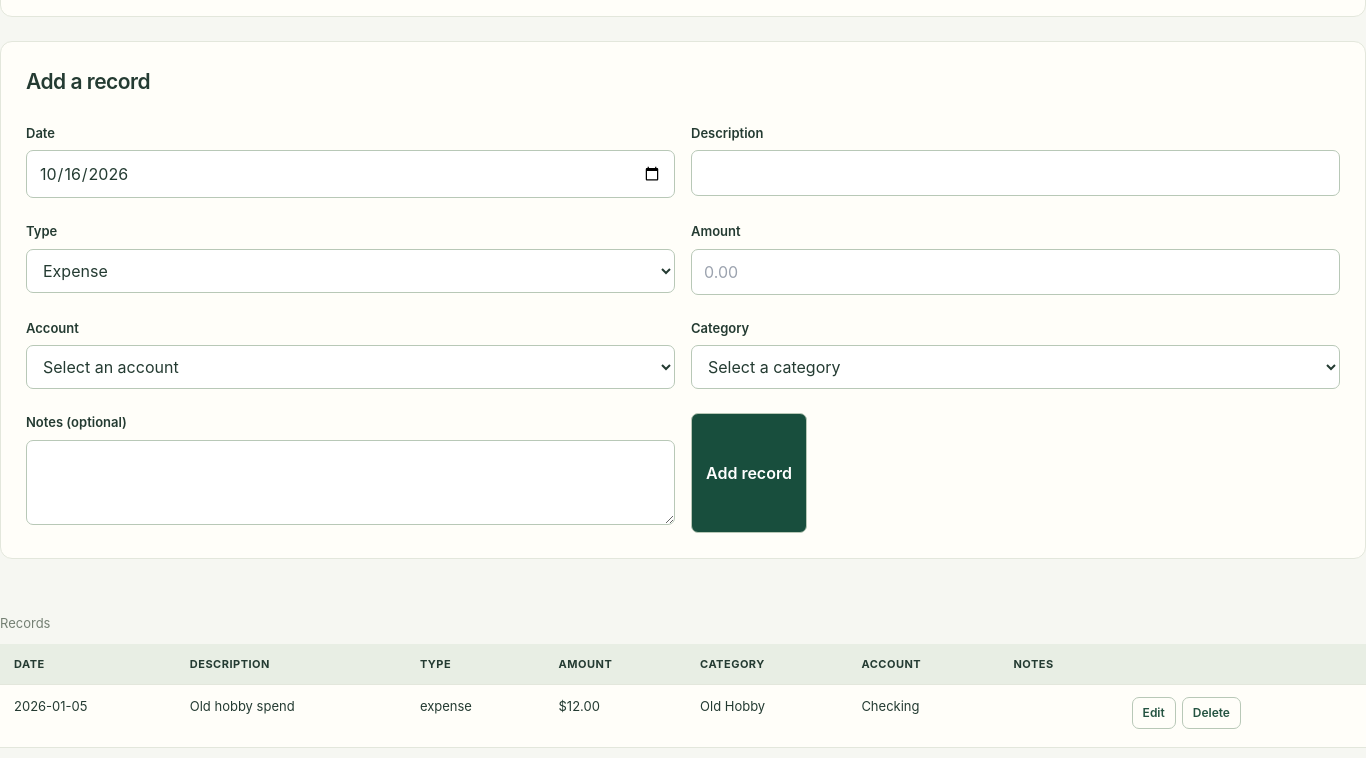
Test: RecordsPage: entry form, filters, edit, and delete › editing an existing record that references an archived category still shows it selected
(page scrolled)
Click the button "Edit" at (1154, 713), box [1132,697,1176,729]
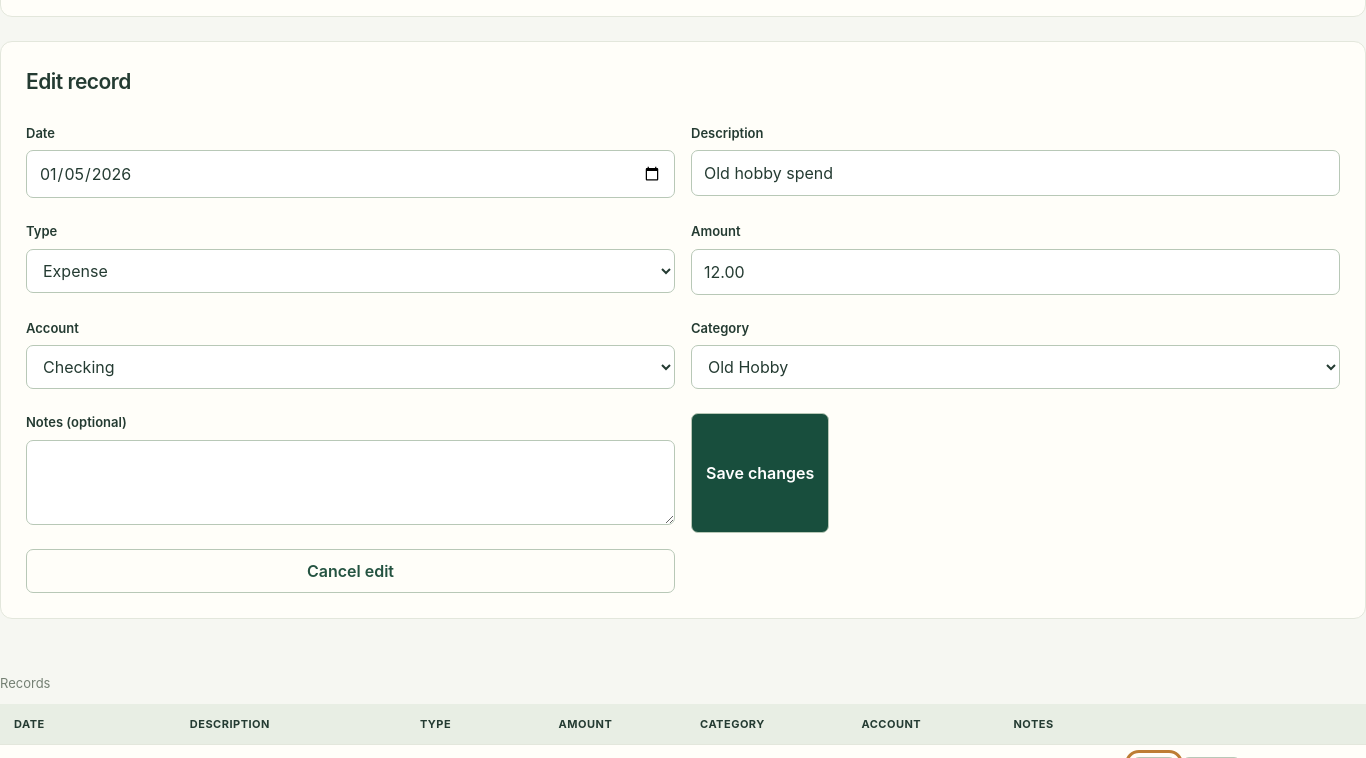
Result: the dropdown labelled "Category" shows "Old Hobby" at [691,346,1340,390]
